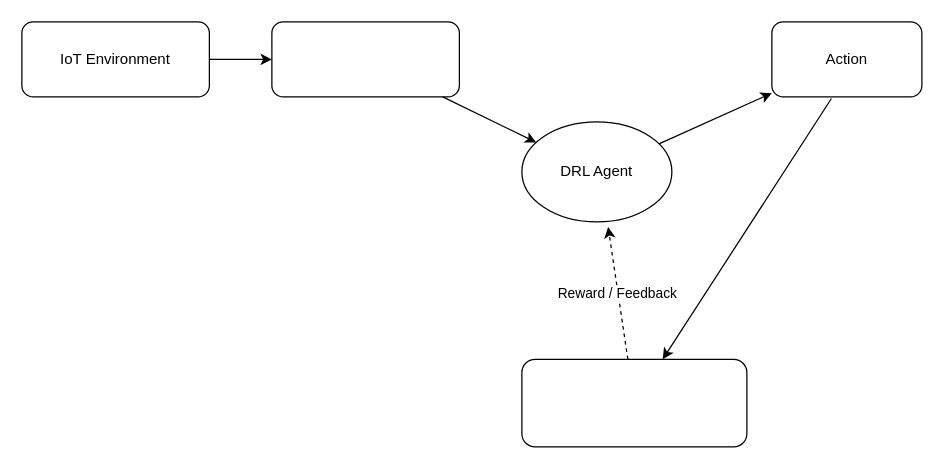
The diagram is 944 pixels wide and 469 high, and some of its shapes have lost their labels. The box of each missing label's shape, as (x1, y1, x2, y2) in pixels:
Attack Detection & Mitigation: (521, 358, 747, 447)
Network State: (271, 21, 459, 97)
